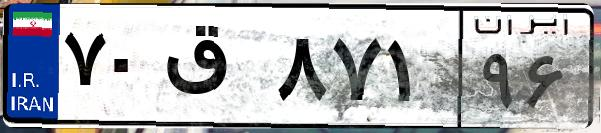0: (110, 28, 158, 98)
1: (385, 28, 445, 110)
6: (525, 38, 570, 115)
7: (330, 28, 385, 110), (57, 26, 110, 100)
8: (270, 28, 330, 110)
9: (475, 38, 525, 113)
ق: (158, 20, 270, 120)
